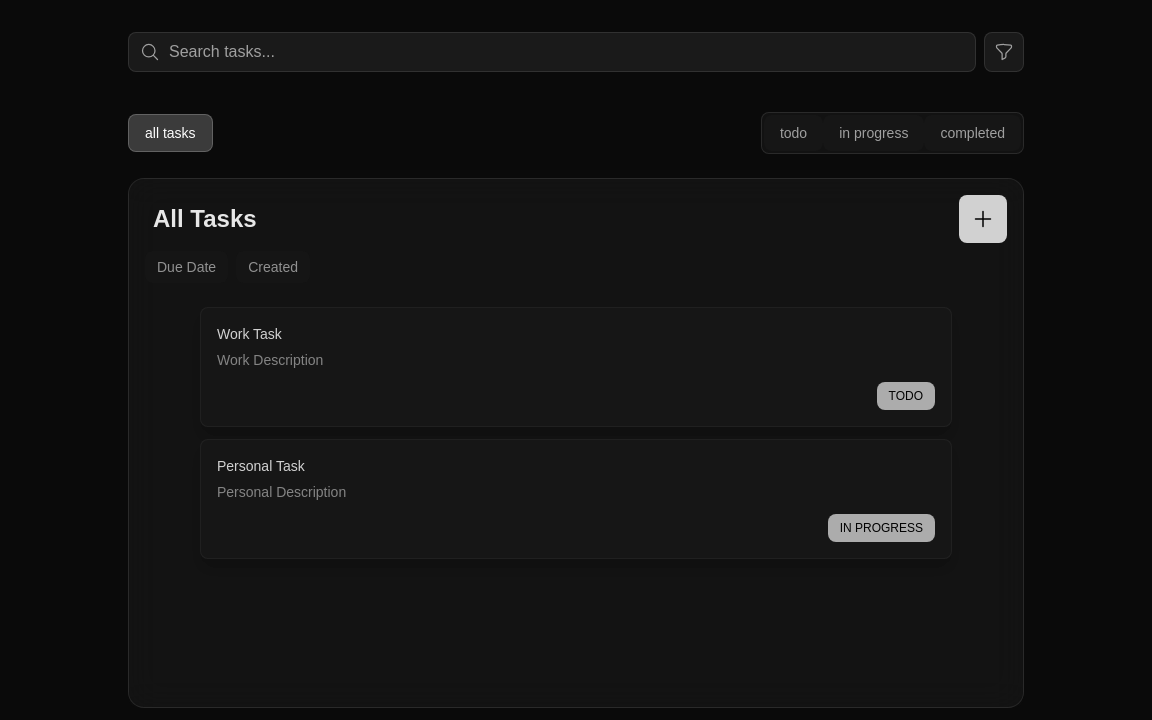
Test: TaskBoard › Filtering › filters by status
The width and height of the screenshot is (1152, 720).
Click the tab "todo": click(794, 133) [764,115,823,151]
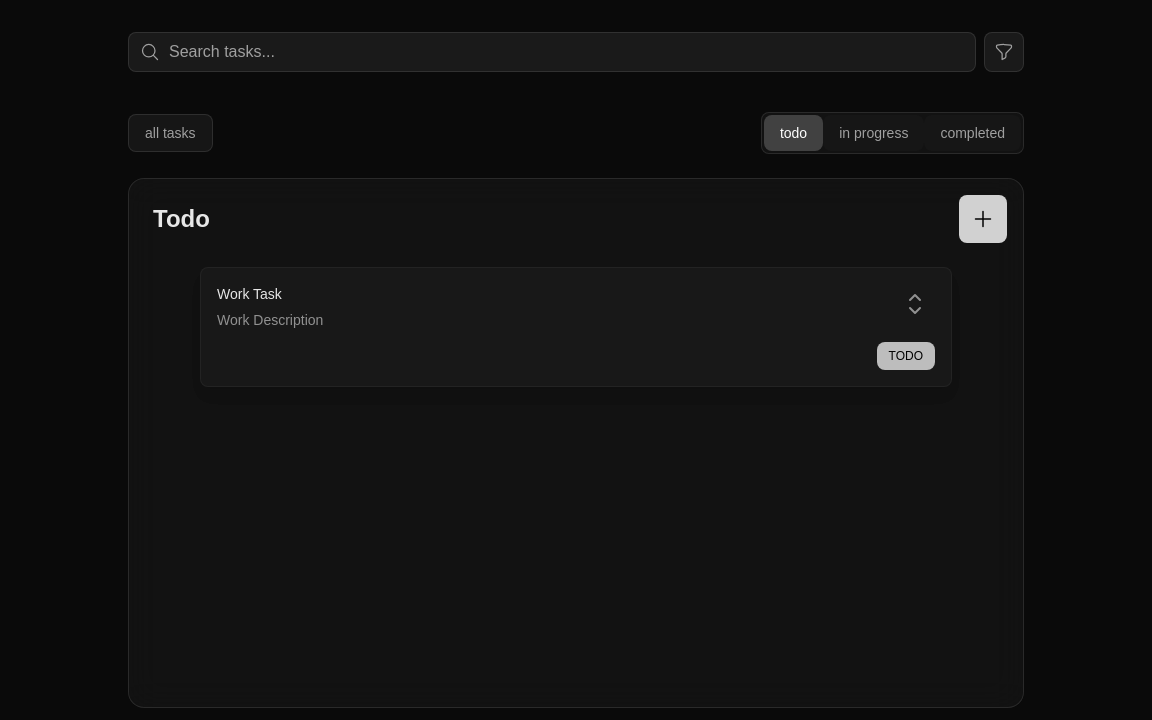
Expected: the heading "Work Task" is shown, [217,286,282,302]
Expected: the heading "Personal Task" is gone
